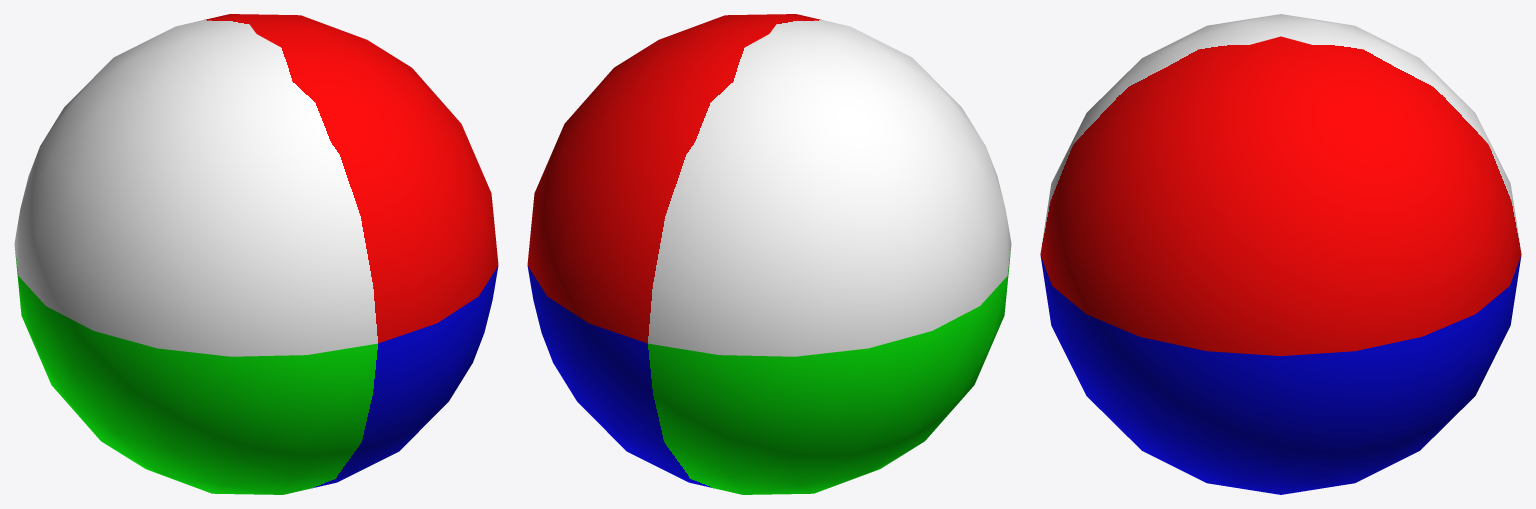
3 views of the same model, side by side, from view 1: azimuth 30°, elevation 25°; view 2: azimuth 150°, elevation 25°; view 3: azimuth 270°, elevation 25° (orthographic).
Parts seen in each view (by area): view 1: GeoSphere001; view 2: GeoSphere001; view 3: GeoSphere001.
Boxes of the visible parts, bbox=[...] form: GeoSphere001: bbox=[14, 14, 498, 494]; GeoSphere001: bbox=[527, 14, 1011, 494]; GeoSphere001: bbox=[1040, 14, 1521, 494].
Bounding box in the file's own units: 1.67 × 1.67 × 1.67.
